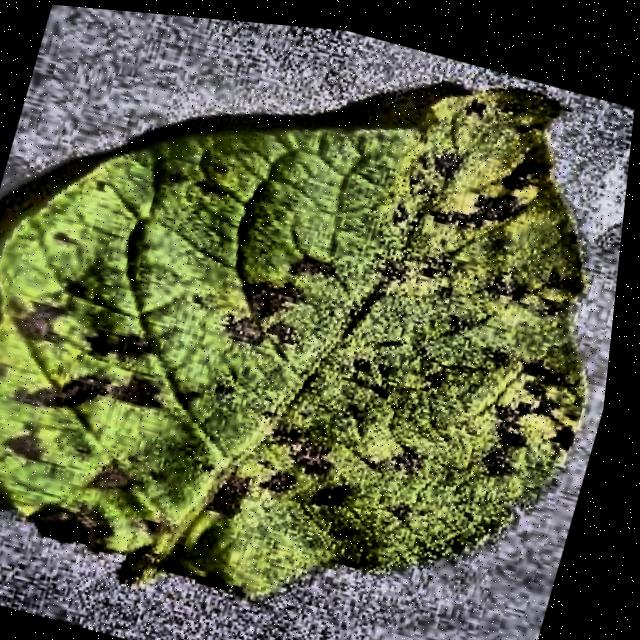Potato_leaf_early_blight: (0, 91, 585, 594)
